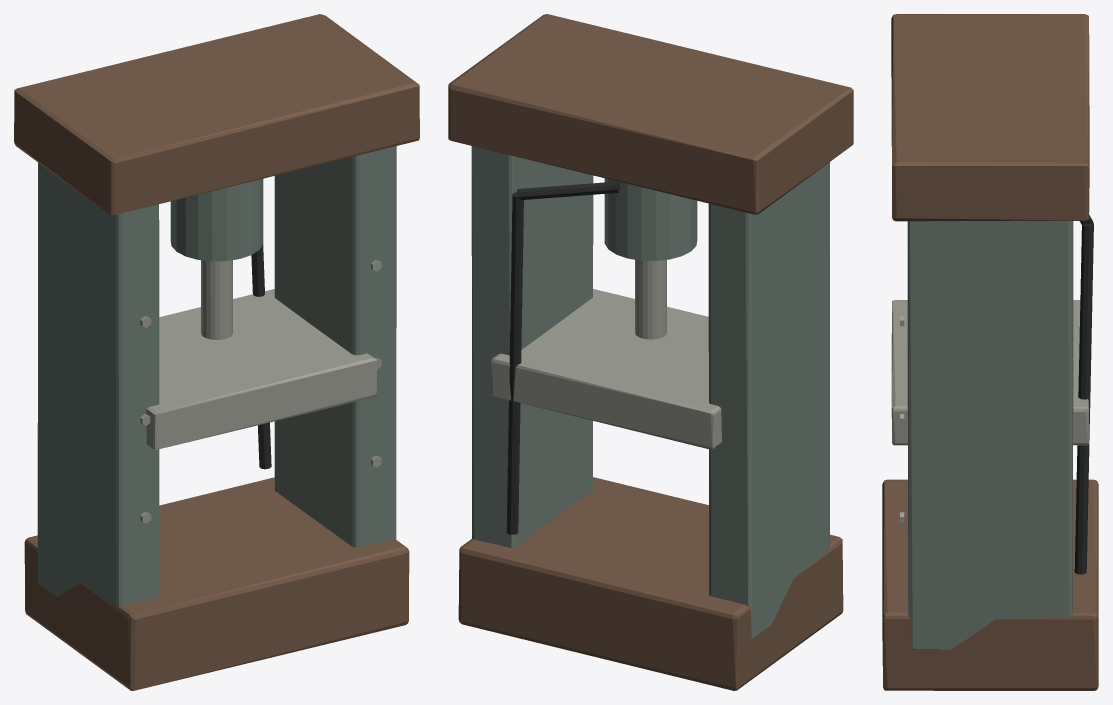
The model's file is workshop_press_low.glb.
The picture shows the model from 3 angles, left to right: view 1: azimuth 30°, elevation 25°; view 2: azimuth 150°, elevation 25°; view 3: azimuth 270°, elevation 25°; orthographic projection.
Parts seen in each view (by area): view 1: workshop_press.001; view 2: workshop_press.001; view 3: workshop_press.001.
Boxes of the visible parts, box(x1,y1,x2,y2) form: workshop_press.001: box(14, 14, 419, 690); workshop_press.001: box(448, 14, 853, 690); workshop_press.001: box(882, 14, 1098, 690).
Size of the model in its own units: 1 by 1.64 by 0.6.
